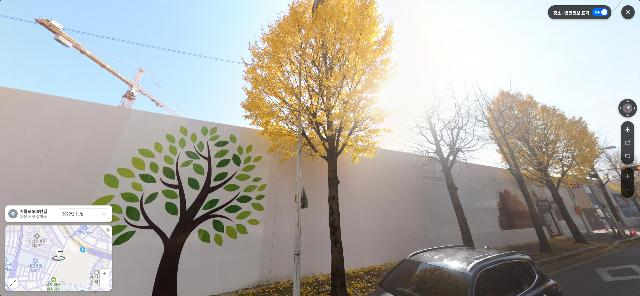ginkgo: (240, 0, 398, 296), (474, 82, 560, 253), (509, 93, 600, 244)
other: (397, 81, 495, 247), (598, 139, 639, 237)
